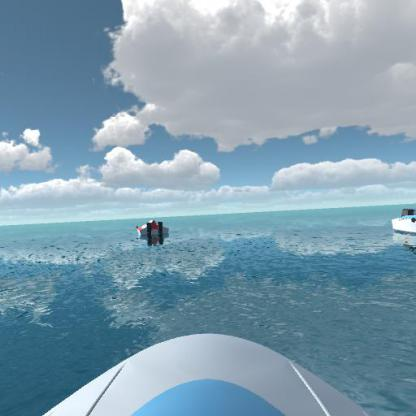usv1: (385, 204, 415, 243)
usv3: (133, 217, 171, 246)
